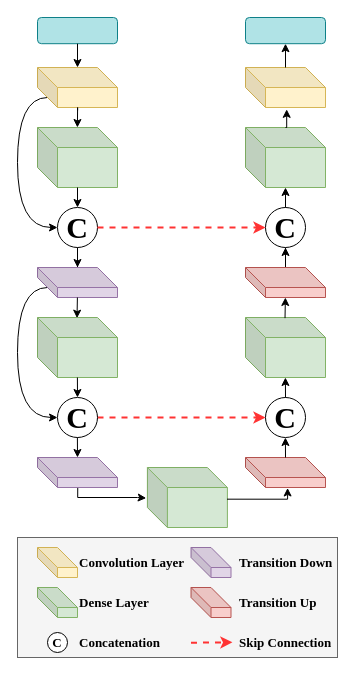
The diagram is 355 pixels wide and 675 high, and some of its shapes have lost their labels. The box of each missing label's shape, as (x1, y1, x2, y2) in pixels:
Image: (36, 16, 118, 44)
Prediction: (244, 16, 326, 44)
